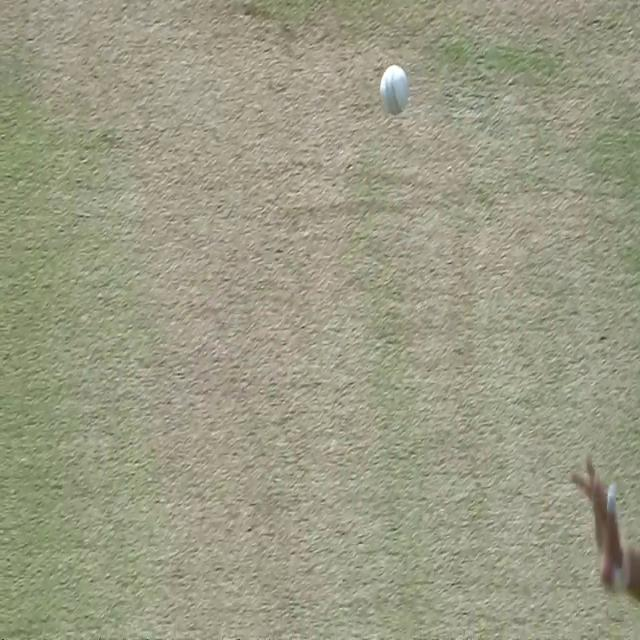ball: (380, 62, 410, 116)
